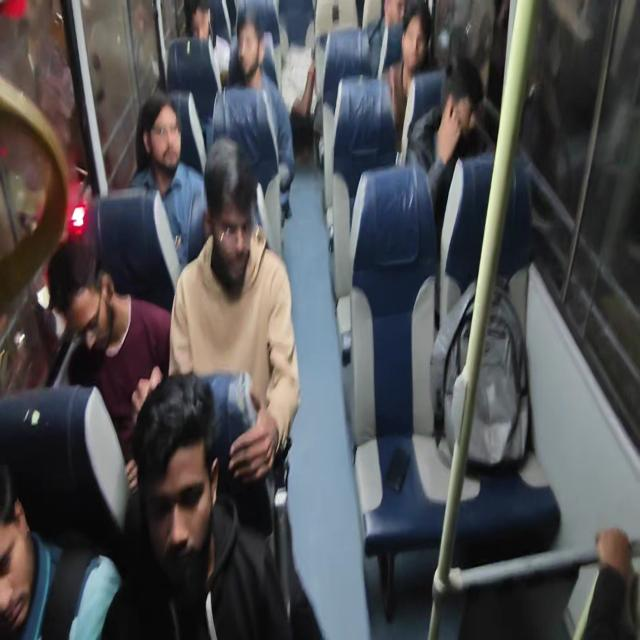person: (135, 429, 202, 588), (0, 460, 56, 640), (212, 182, 274, 309), (58, 237, 111, 334), (402, 8, 440, 92), (283, 30, 316, 121), (441, 72, 485, 140), (138, 111, 178, 178), (225, 14, 258, 82), (185, 1, 209, 44), (386, 0, 406, 30)
